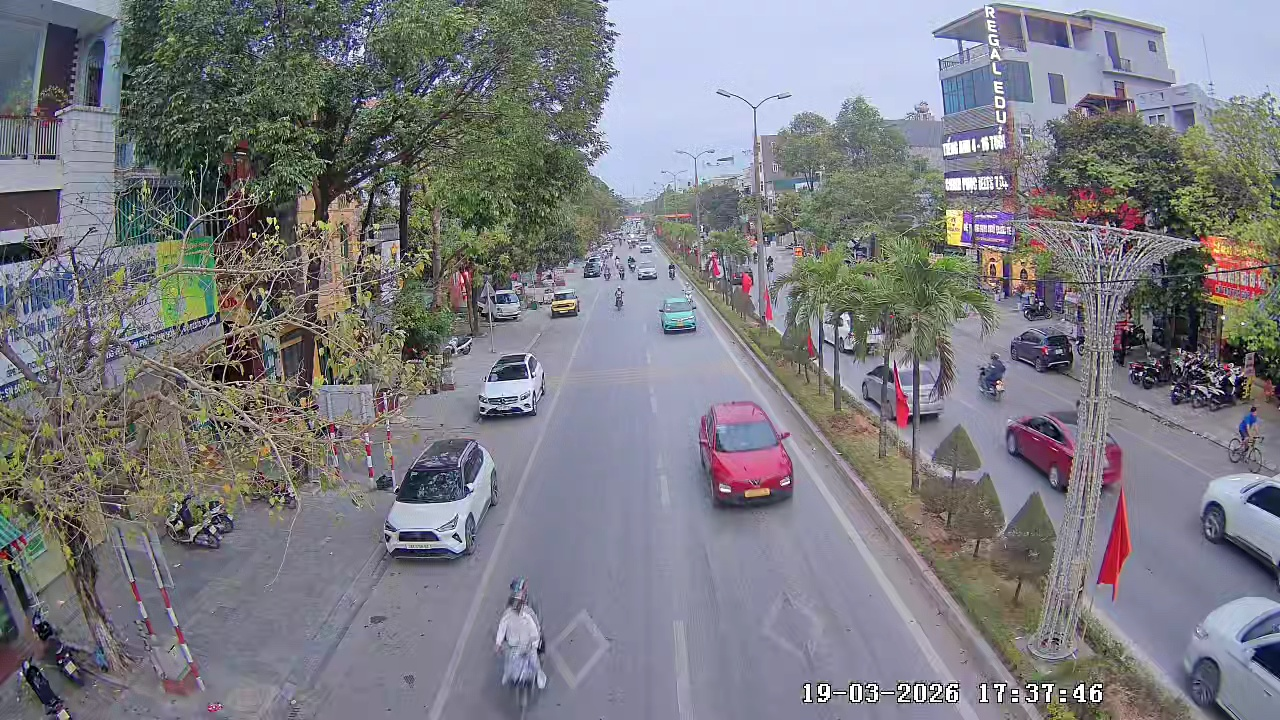car: (382, 436, 501, 561), (1181, 594, 1279, 719), (695, 401, 794, 508), (1199, 471, 1279, 595), (1004, 407, 1082, 494), (476, 351, 547, 419), (1009, 323, 1079, 374), (657, 293, 698, 335), (550, 289, 583, 318), (636, 256, 658, 282)
motorbike: (490, 575, 552, 719), (982, 354, 1006, 403), (612, 283, 626, 312)
